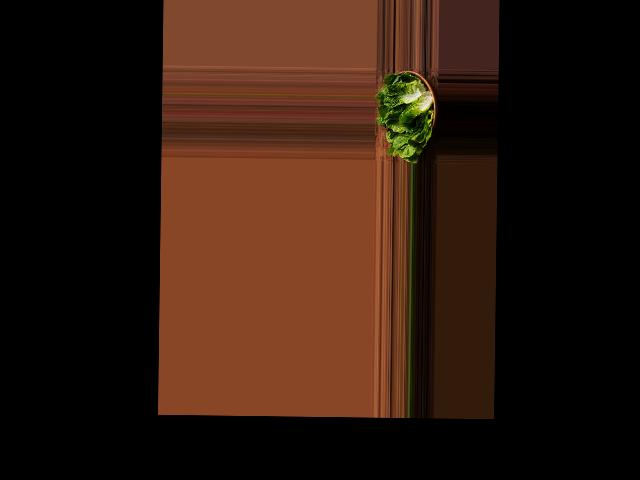lettuce: (377, 66, 437, 162)
